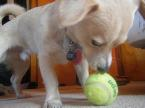tennis ball: (81, 70, 121, 107)
